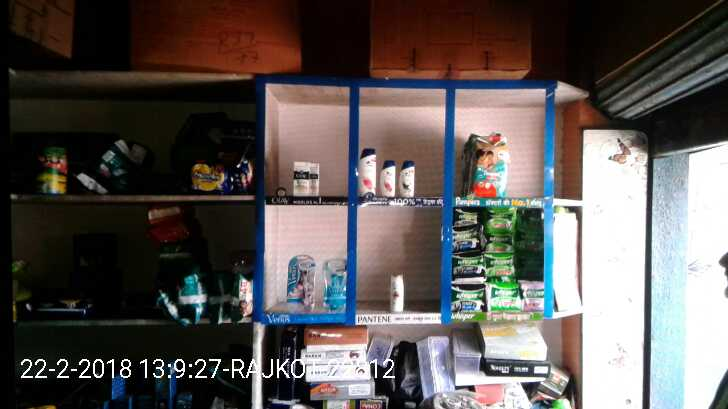venus: (288, 254, 317, 309), (324, 258, 347, 311)
